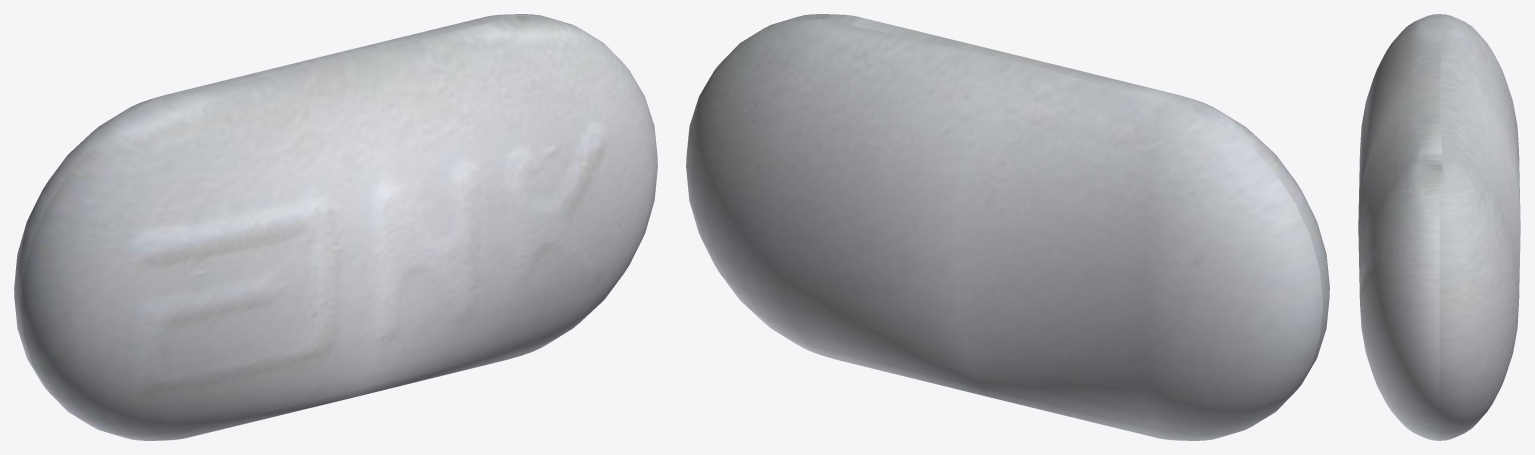
The model's file is 20151013GOPHDRGPT37109.fbx.
3 renders of one model, left to right at view 1: azimuth 30°, elevation 25°; view 2: azimuth 150°, elevation 25°; view 3: azimuth 270°, elevation 25°, orthographic. The views are drawn at different scales.
Visible parts, largest first — view 1: Sphere; view 2: Sphere; view 3: Sphere.
Part boxes in pixels (box(x1,y1,x2,y2)): Sphere: box(14, 14, 657, 440); Sphere: box(686, 14, 1329, 440); Sphere: box(1358, 14, 1520, 440).
Bounding box in the file's own units: 1.68 × 0.8573 × 0.4579.
Materials: 1 (1 with a texture image).
